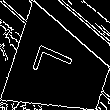L_E: (35, 46, 85, 93)
